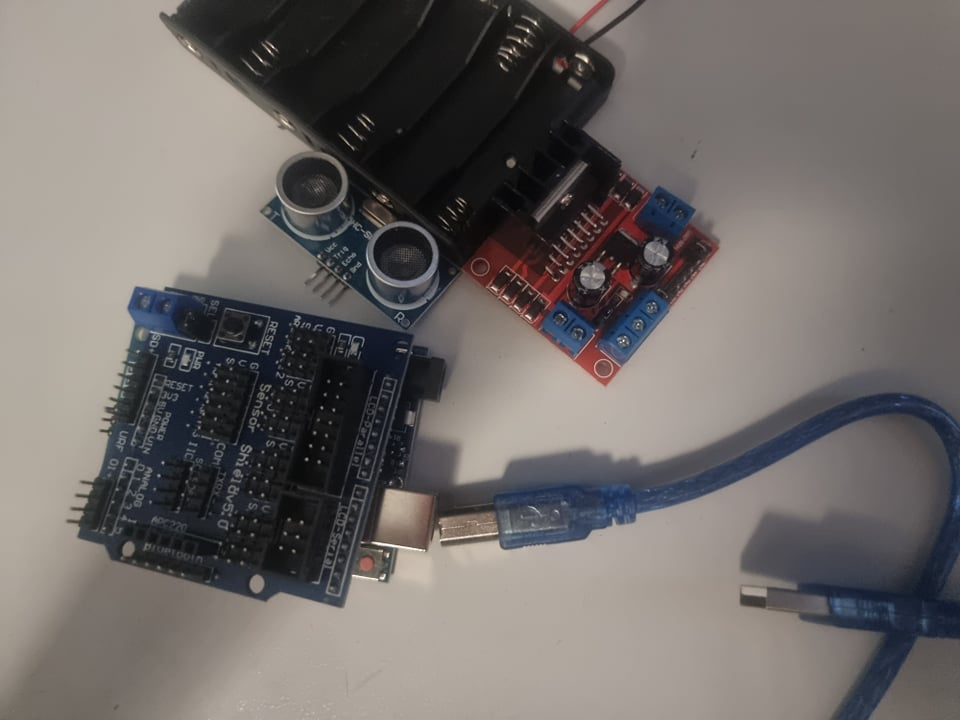5V EXPANSION: (73, 285, 370, 596)
BATTERY BOX: (159, 1, 609, 250)
MOTOR: (480, 128, 724, 379)
SENSOR: (259, 150, 448, 316)
UNO R3: (354, 343, 449, 604)
